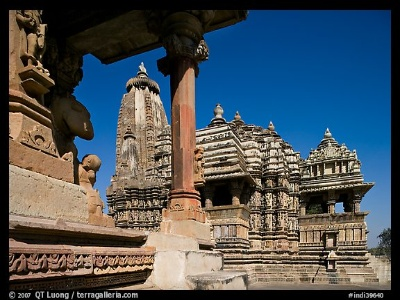amalaka: (117, 74, 163, 96)
gopuram: (111, 97, 175, 196)
mandapa: (198, 160, 266, 216), (309, 177, 383, 221)
